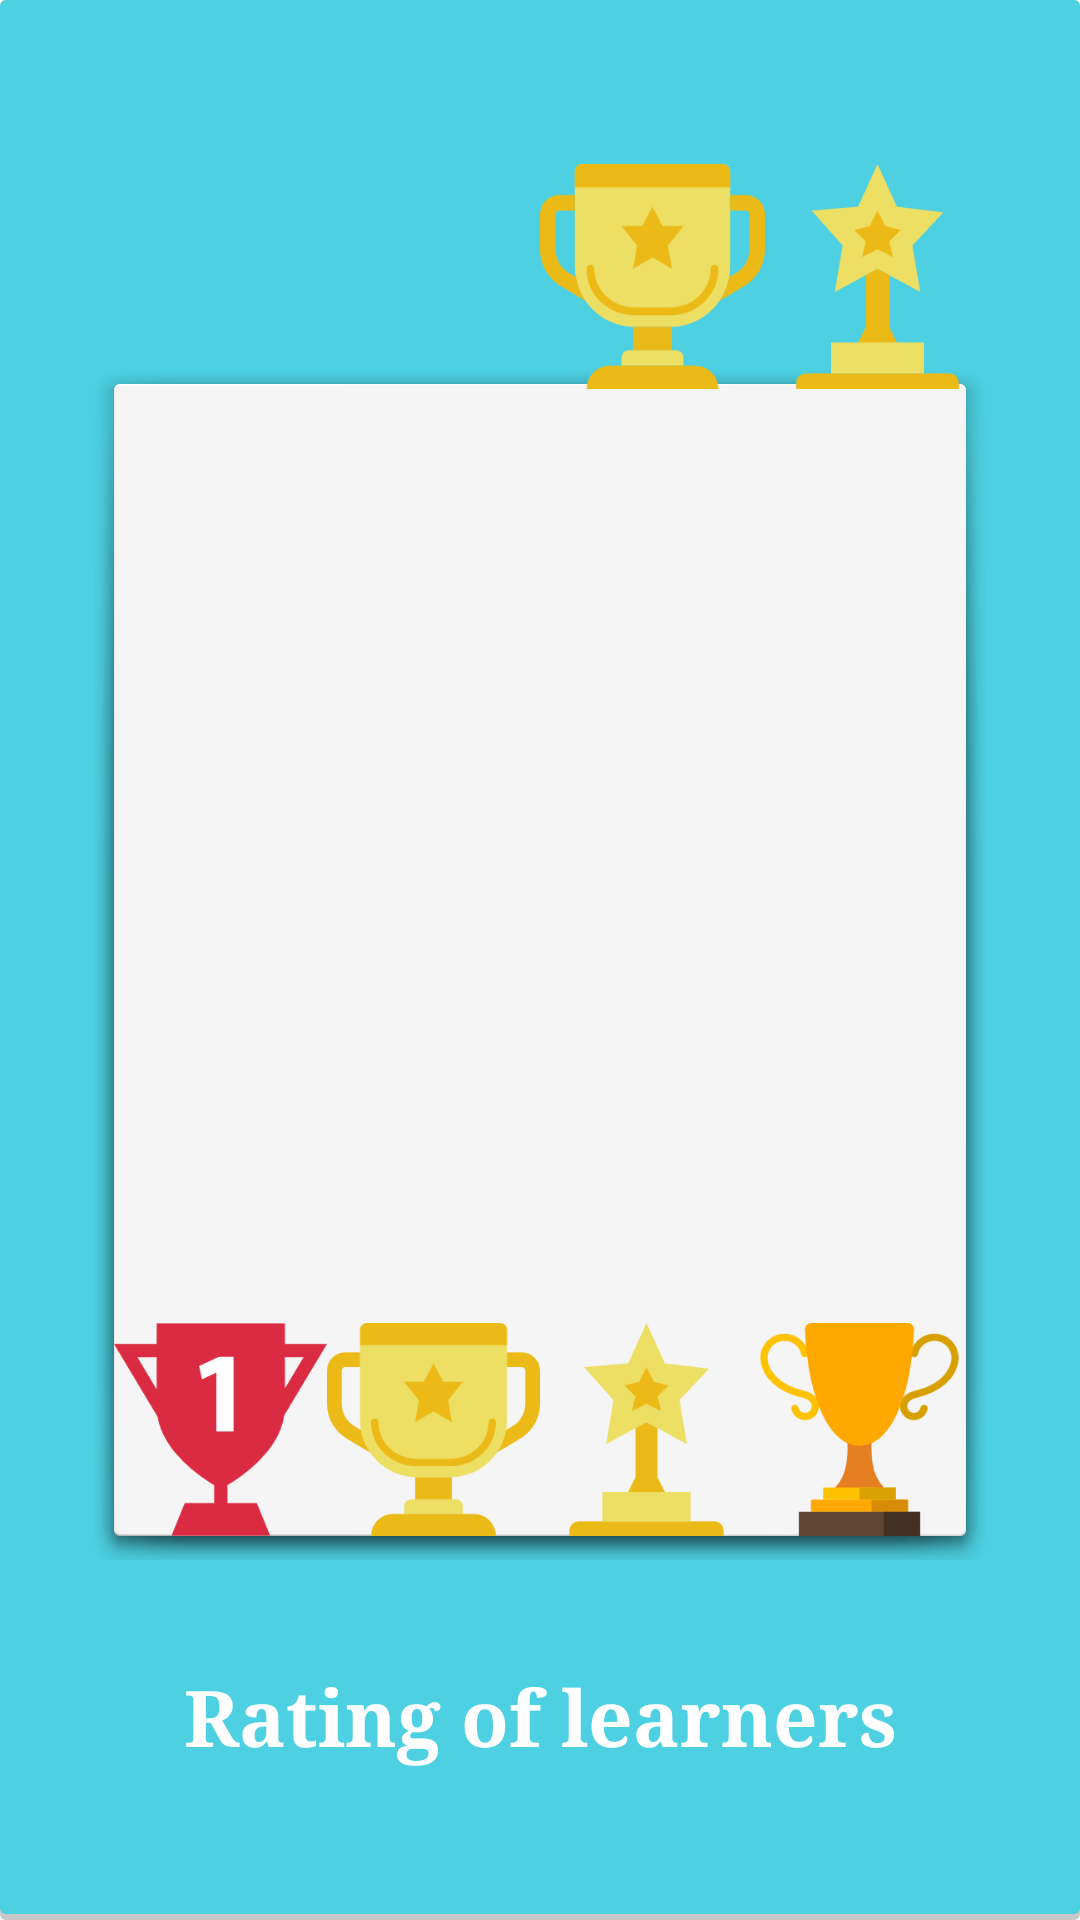

Screen size 1080px×1920px. Icon name, then its center in pixels as [x,y]:
trophy: [652,276], [866,276], [220,1429], [433,1429], [646,1429], [859,1429]
